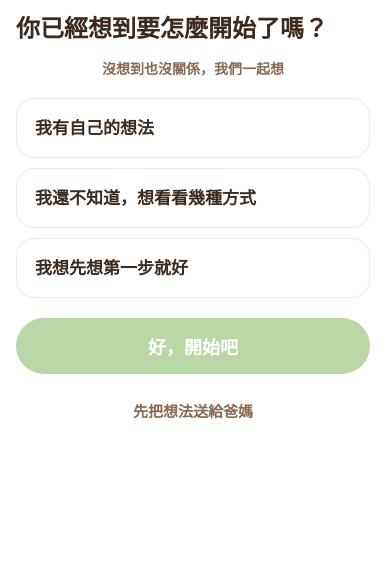
Test: Case 7｜舊的回應晚到 › 存不進去就不顯示成 ready —— 孩子不該對著不會被保留的計畫點頭
Click the radio button with test id "planning-opening-has_own_idea": {"x": 193, "y": 128} [16,98,370,158]
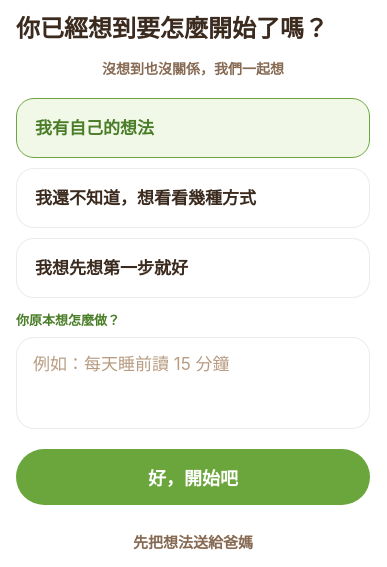
In the text box with test id "planning-approach-input": {"x": 193, "y": 383} [16,337,370,429], type "平日睡前讀 15 分鐘"
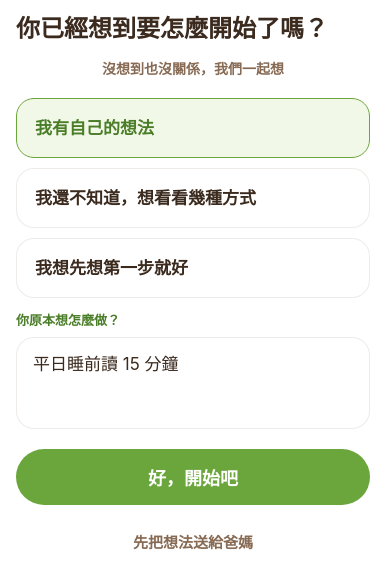
Click the button with test id "planning-opening-next": {"x": 193, "y": 477} [16,449,370,505]
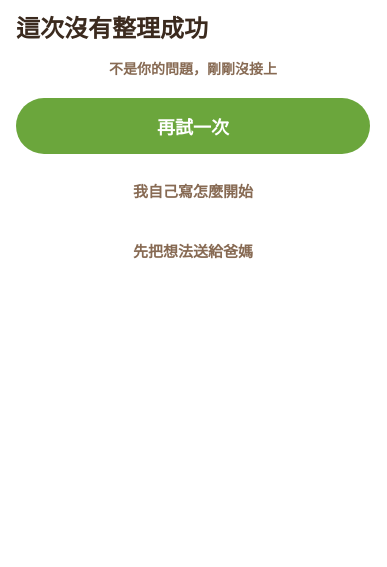
Result: the element with test id "planning-unavailable" is shown at [16,14,370,274]
